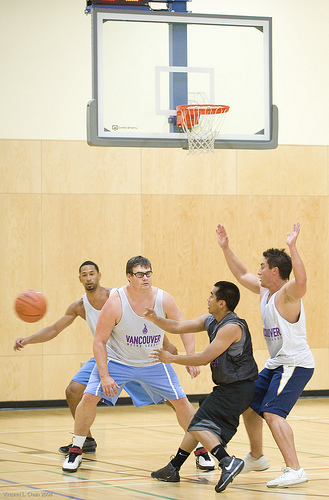basketball: (14, 289, 49, 323)
